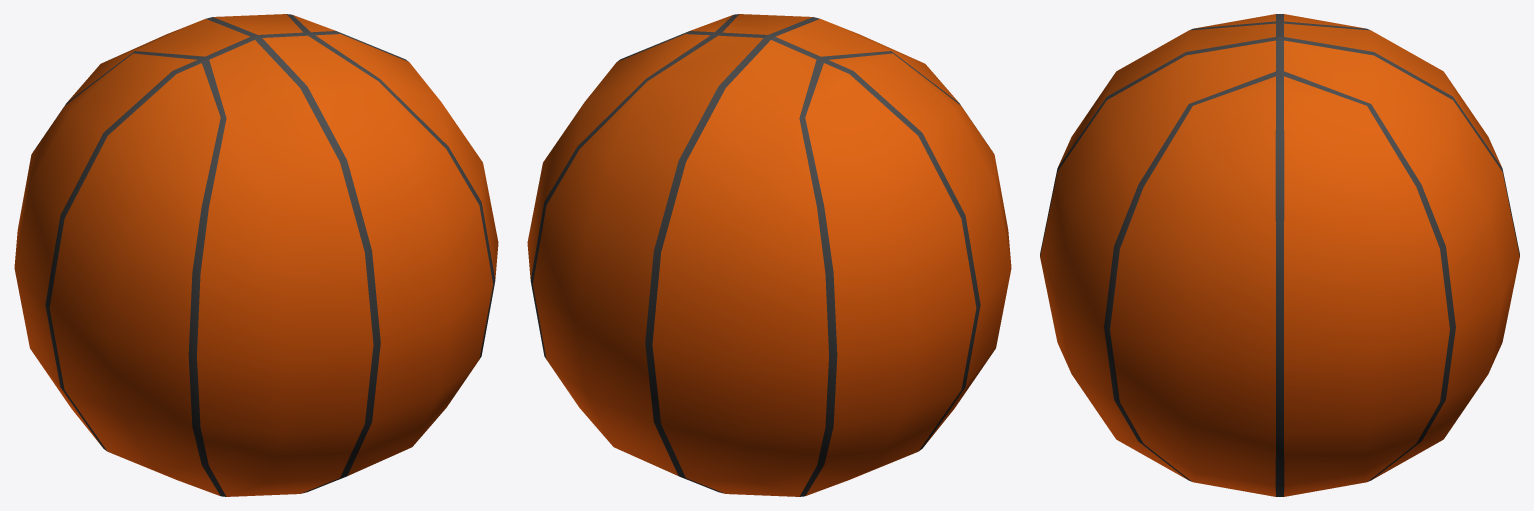
The model's file is CR_Basketball.FBX.
3 views of the same model, side by side, from view 1: azimuth 30°, elevation 25°; view 2: azimuth 150°, elevation 25°; view 3: azimuth 270°, elevation 25° (orthographic).
Visible parts, largest first — view 1: CR_Basketball; view 2: CR_Basketball; view 3: CR_Basketball.
Part boxes in pixels (<box>): CR_Basketball: <box>14,14,498,496</box>; CR_Basketball: <box>527,14,1011,496</box>; CR_Basketball: <box>1040,14,1519,496</box>.
Bounding box in the file's own units: 19.93 × 19.87 × 19.93.
Materials: 1 (1 with a texture image).
